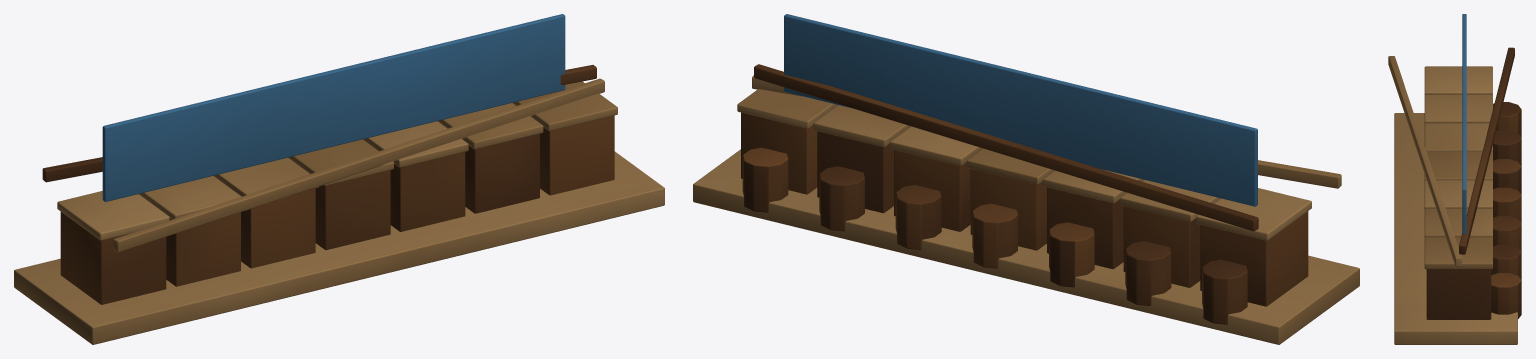
File: building_barricade.fbx
3 renders of one model, left to right at view 1: azimuth 30°, elevation 25°; view 2: azimuth 150°, elevation 25°; view 3: azimuth 270°, elevation 25°, orthographic. The views are drawn at different scales.
Parts seen in each view (by area): view 1: building_barricade; view 2: building_barricade; view 3: building_barricade.
Boxes of the visible parts, box(x1,y1,x2,y2) form: building_barricade: box(14, 14, 664, 344); building_barricade: box(693, 14, 1359, 344); building_barricade: box(1388, 14, 1521, 344).
Size of the model in its own units: 9.2 by 2.65 by 2.37.
